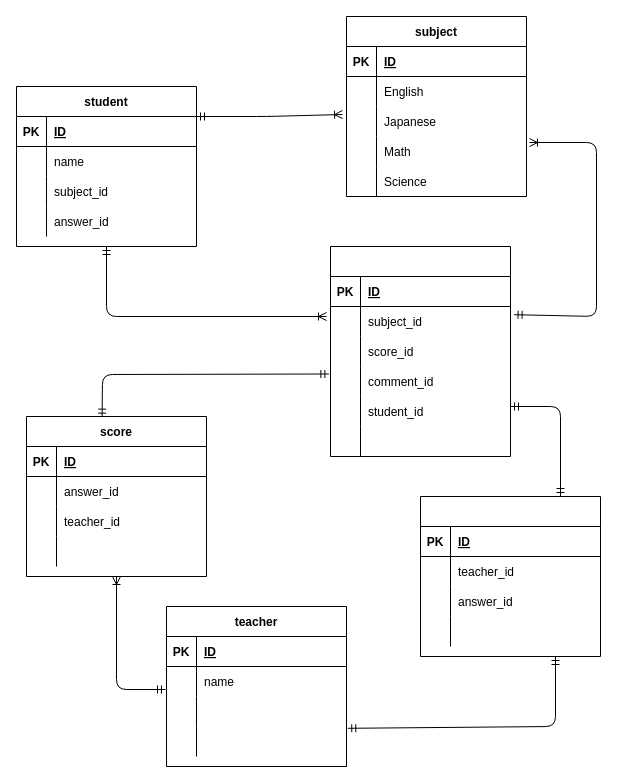
Image size: 617x783. Some labels were removed from this diagram. Here are the shapes that lost their labels. From the top down, the box of each, then its label:
(330, 246, 510, 456): answer
(420, 496, 600, 656): comment
